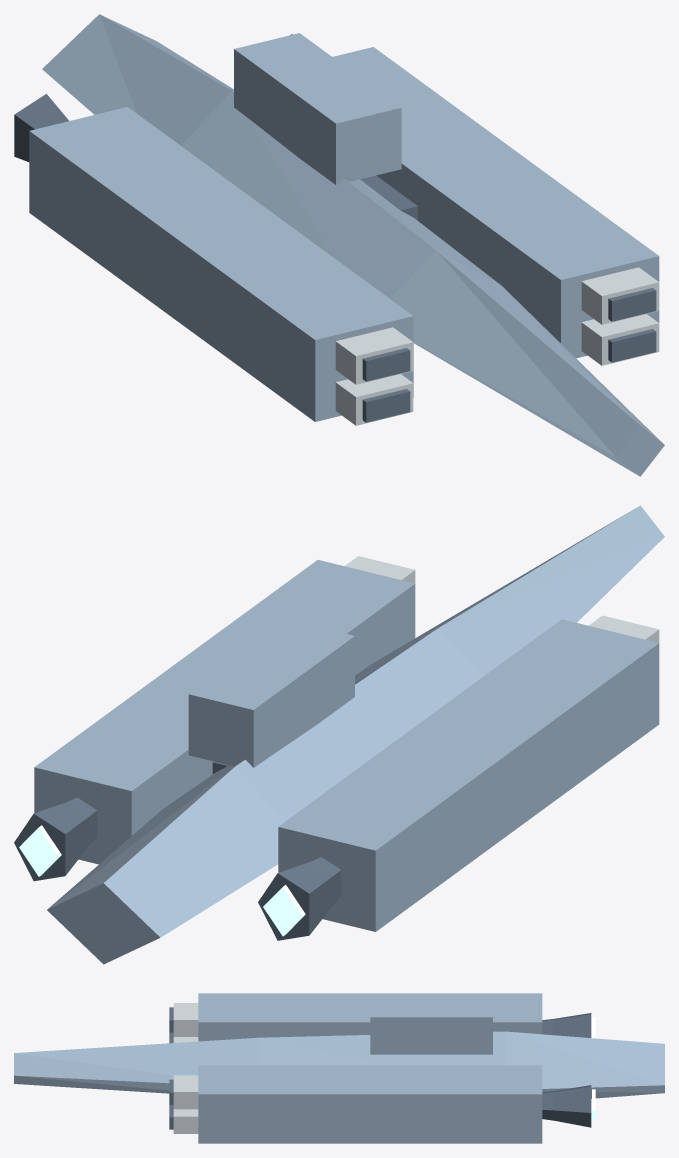
3 renders of one model, top to bottom at view 1: azimuth 30°, elevation 25°; view 2: azimuth 150°, elevation 25°; view 3: azimuth 270°, elevation 25°, orthographic. The views are drawn at different scales.
Size of the model in its own units: 7.56 by 3.66 by 20.6.
